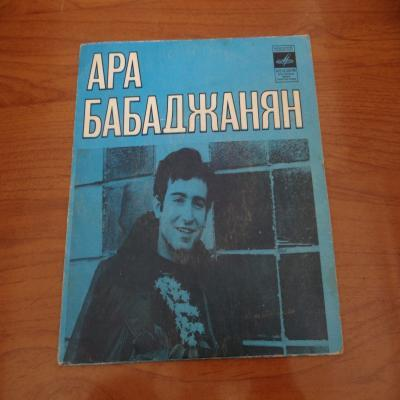other: (57, 35, 343, 368)
